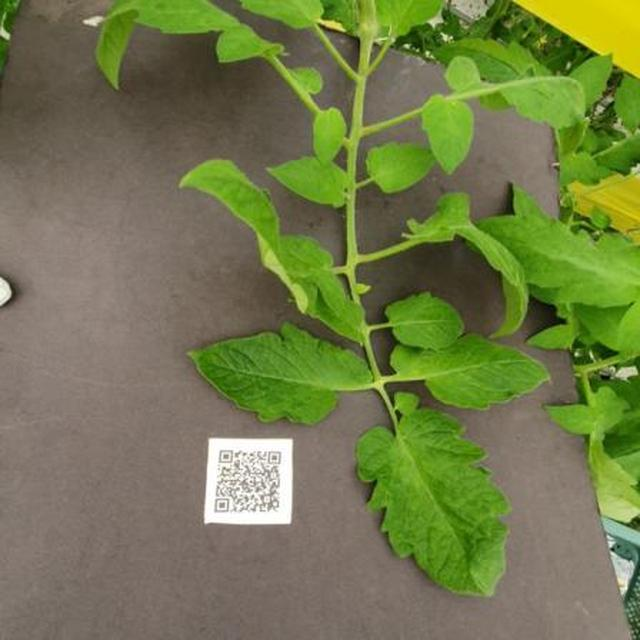Healthy Leaf: (51, 78, 640, 640)
